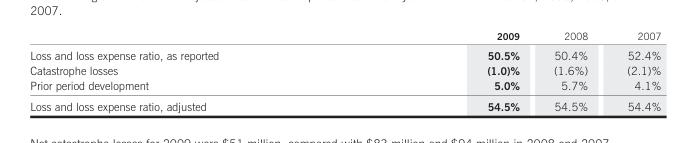table: (29, 29, 660, 112)
table column: (29, 29, 352, 112), (352, 29, 535, 112), (535, 29, 606, 112), (606, 29, 660, 112)
table column header: (29, 29, 660, 44)
table row: (29, 44, 660, 62), (29, 77, 660, 95), (29, 95, 660, 112), (29, 29, 660, 44), (29, 62, 660, 77)
